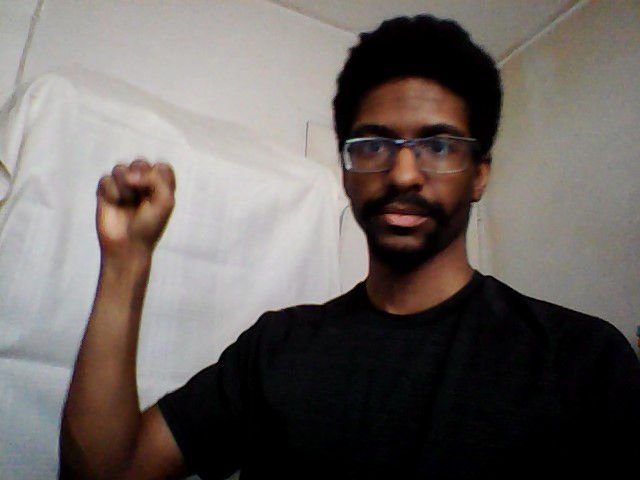s: (88, 153, 182, 250)
